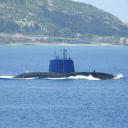submarine: (12, 47, 119, 82)
